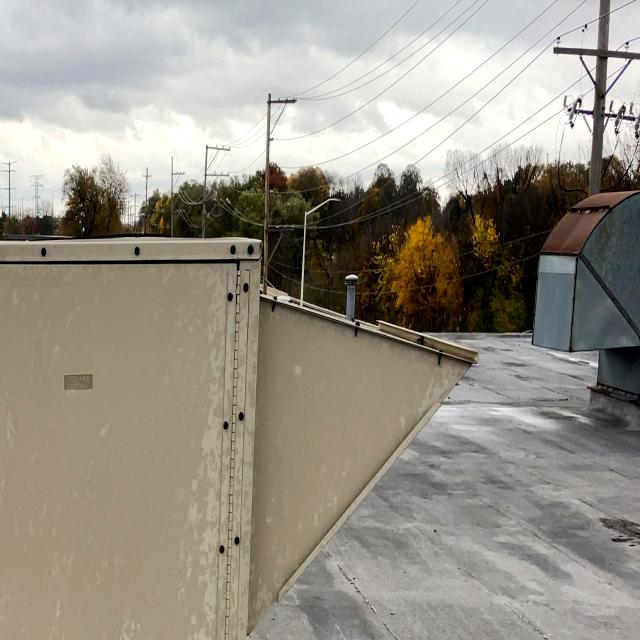RTU: (0, 221, 483, 640)
